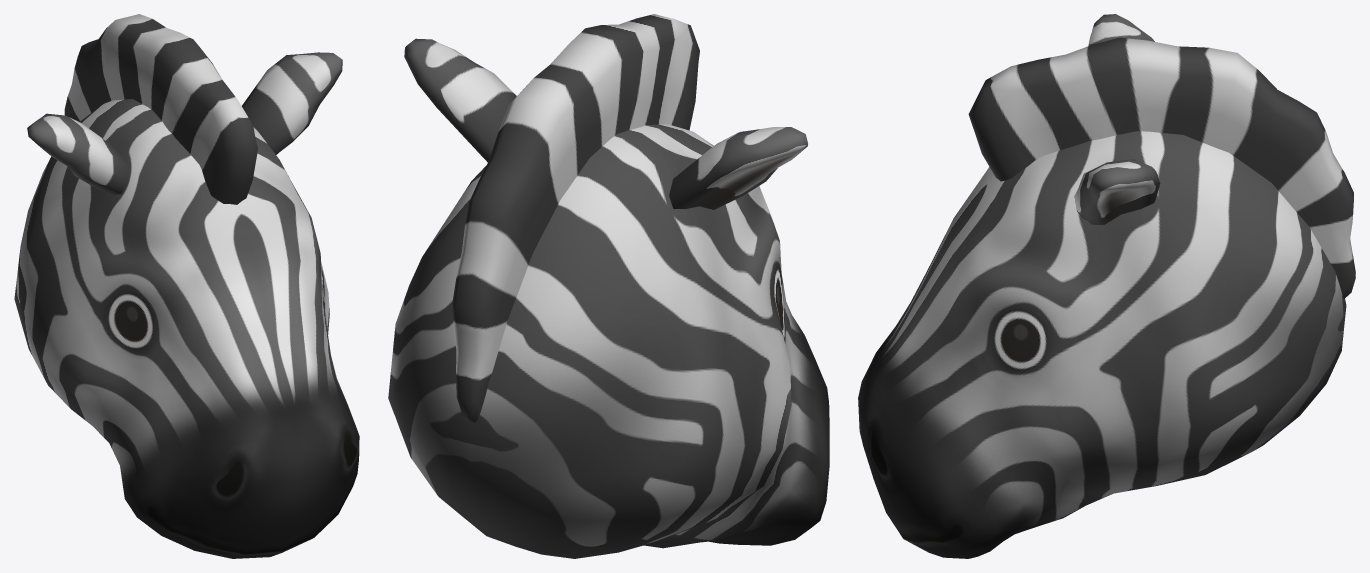
File: zebra.FBX
3 views of the same model, side by side, from view 1: azimuth 30°, elevation 25°; view 2: azimuth 150°, elevation 25°; view 3: azimuth 270°, elevation 25° (orthographic). The views are drawn at different scales.
Parts seen in each view (by area): view 1: zebra; view 2: zebra; view 3: zebra.
Boxes of the visible parts, x1,y1,x2,y2 form: zebra: [14, 14, 359, 558]; zebra: [388, 14, 829, 558]; zebra: [858, 14, 1355, 558].
Bounding box in the file's own units: 28.91 × 39.6 × 36.
